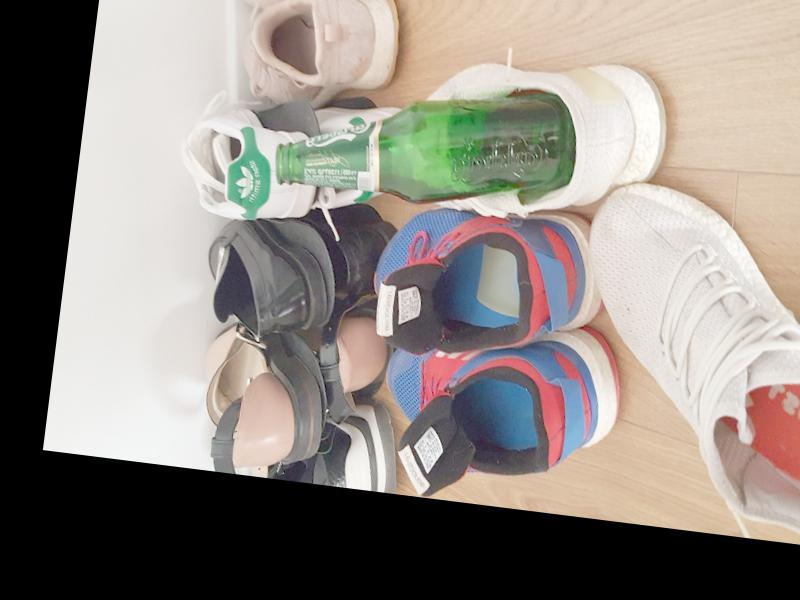Beer: (275, 62, 581, 223)
